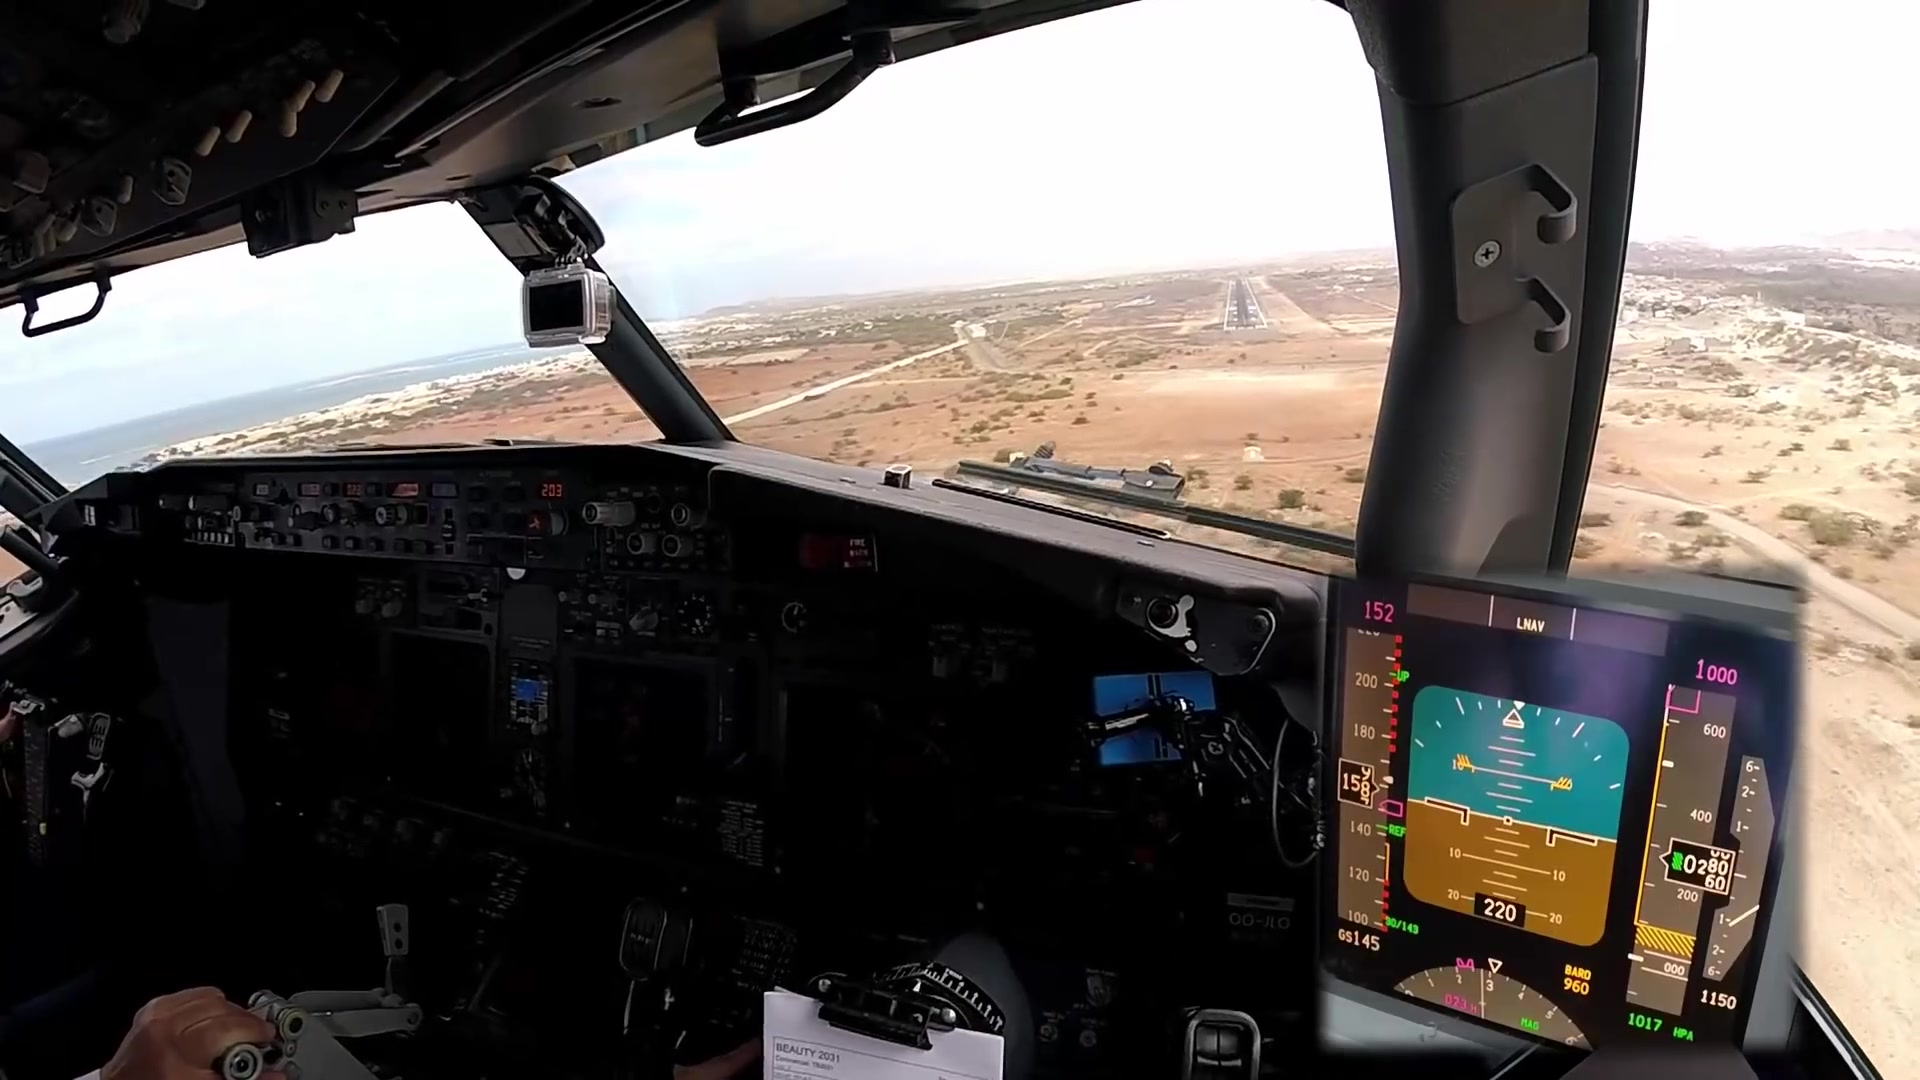entrance: (1225, 324, 1269, 331)
runway: (1222, 280, 1273, 331)
